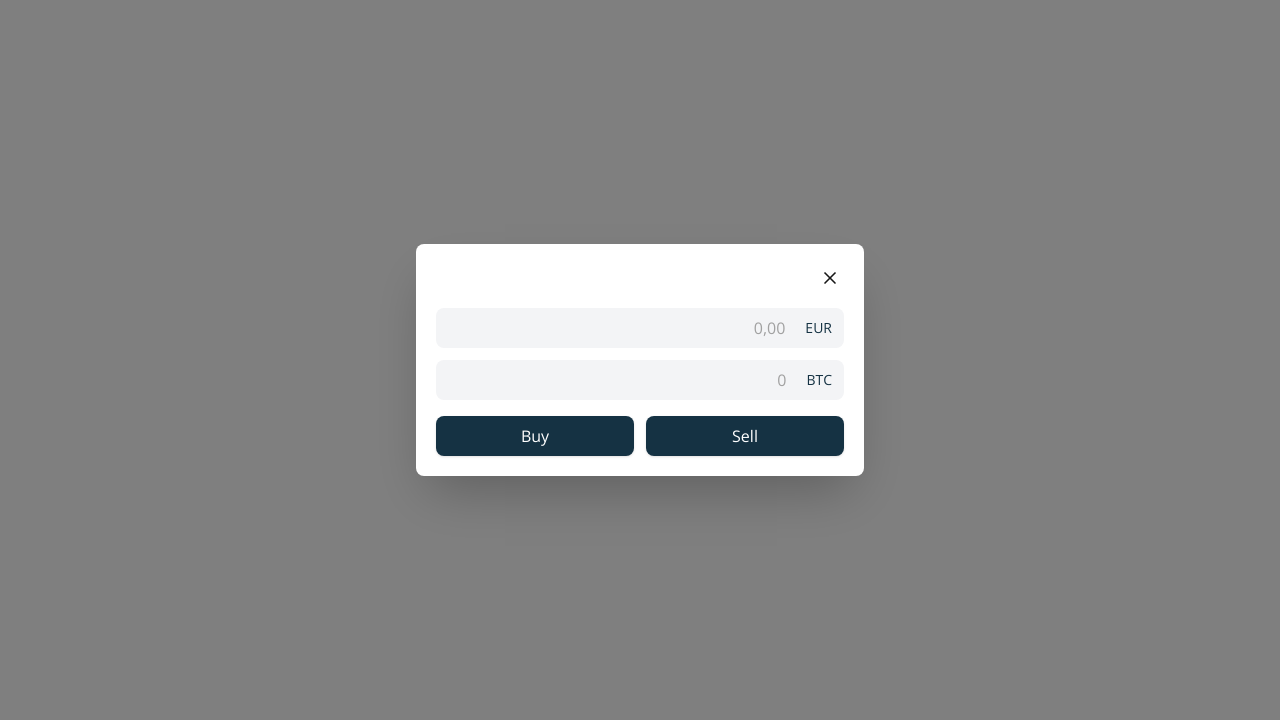
Test: TradeModal › EUR input formats on blur and unformats on focus (de-DE style)
Step 1. Type "1234.5" into the field with placeholder "0,00" → (615, 328), box [436, 308, 793, 348]
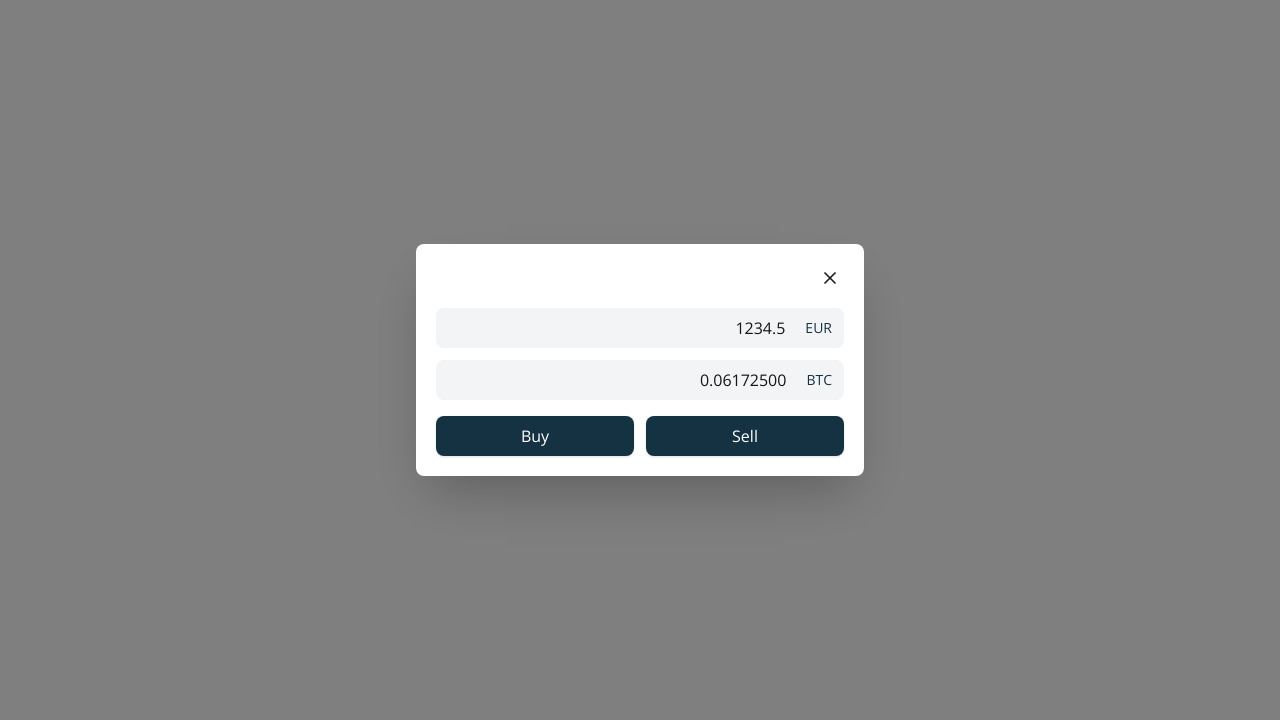
Step 2. Press Tab
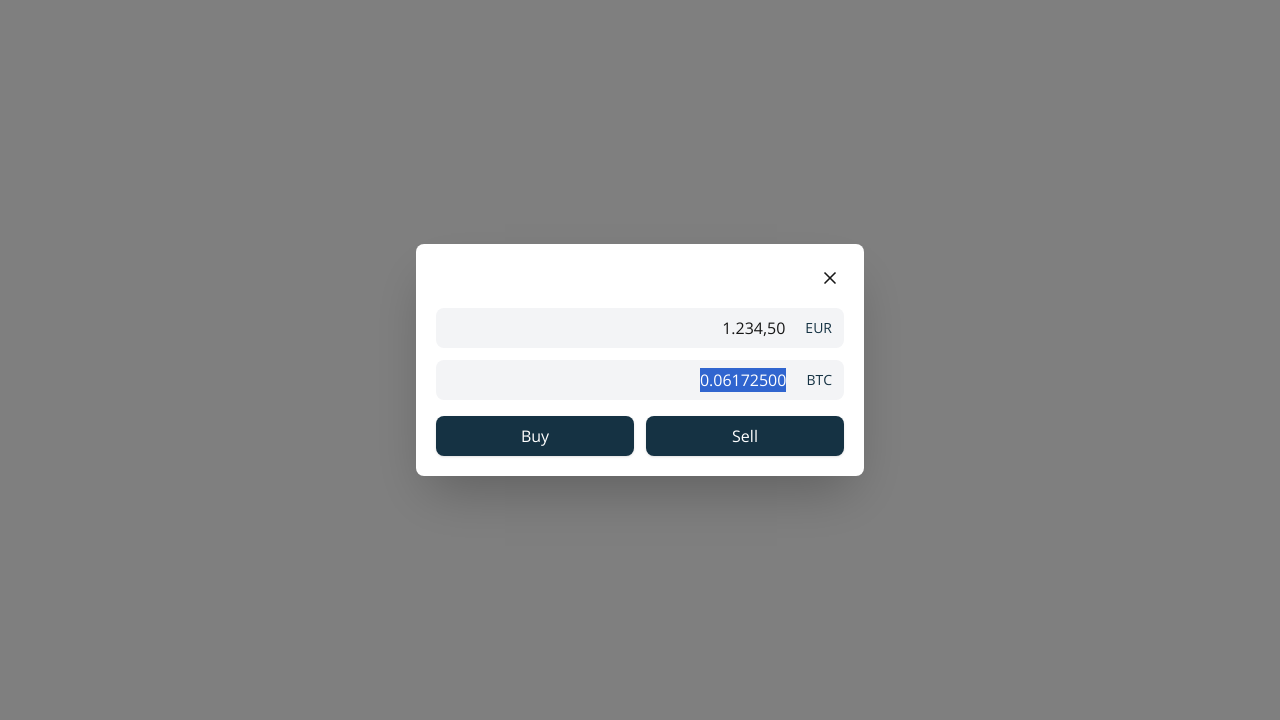
Expected: the field next to "EUR" holds "1.234,50"
Step 3. Click the field next to "EUR" → (615, 328), box [436, 308, 793, 348]
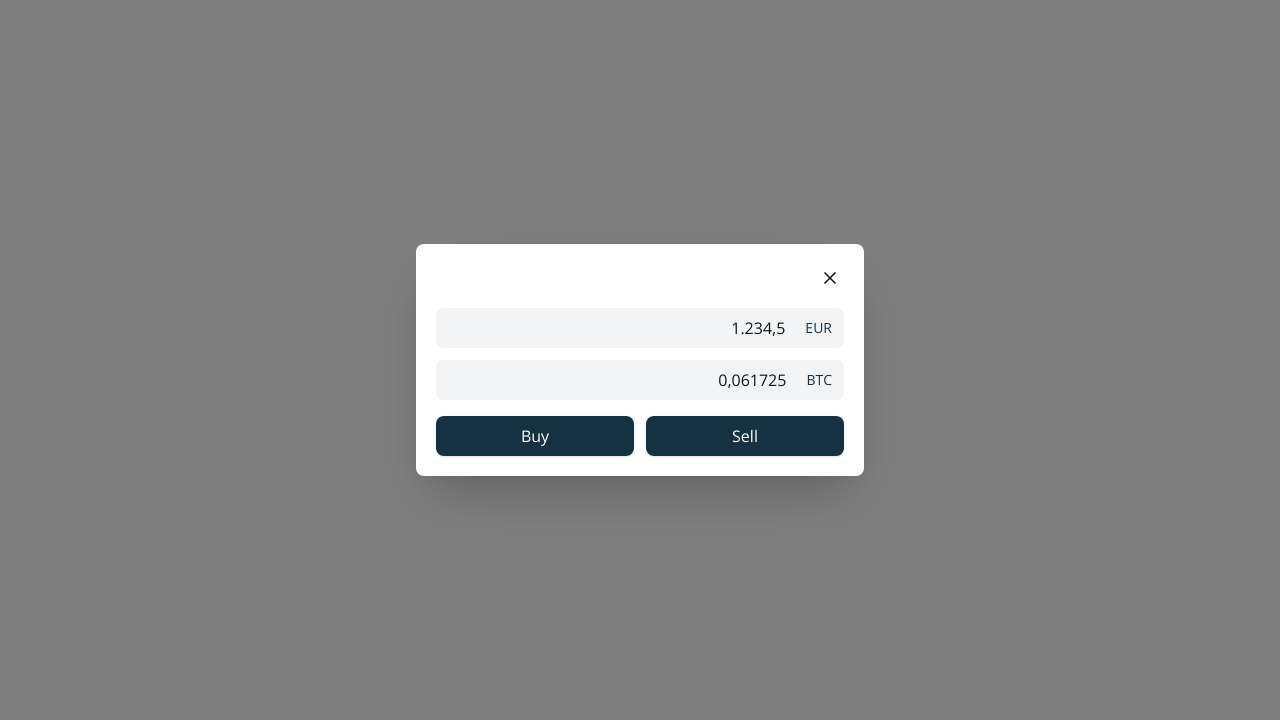
Expected: the field next to "EUR" holds "1.234,5", [436, 308, 793, 348]
